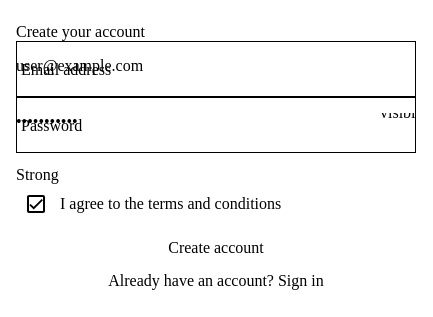
Test case: RegistrationFormComponent › should show field error when server returns details for a field
What coordinates should you click on to do the following:
click the button "Create account"
I would click on:
 (216, 248)
Its box is [16,224,416,272].
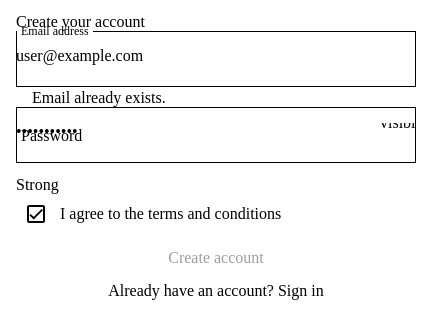
Result: the text "Email already exists." is shown at [32,88,166,106]
